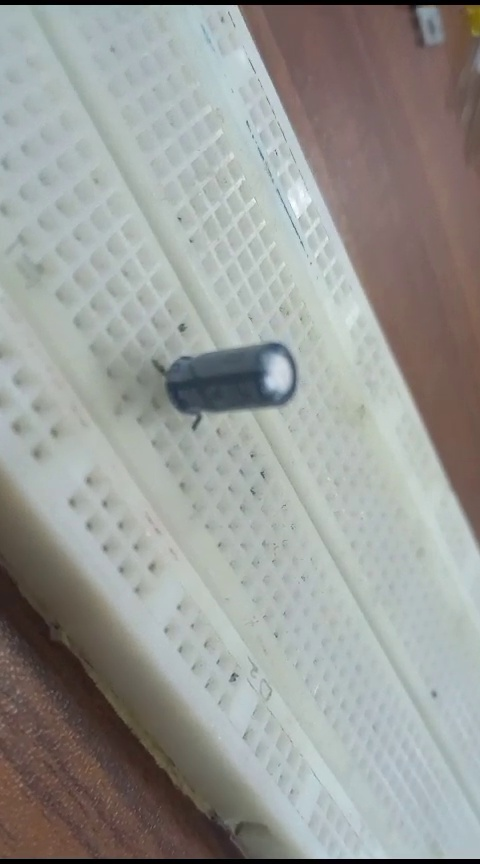capacitor: (147, 332, 312, 431)
